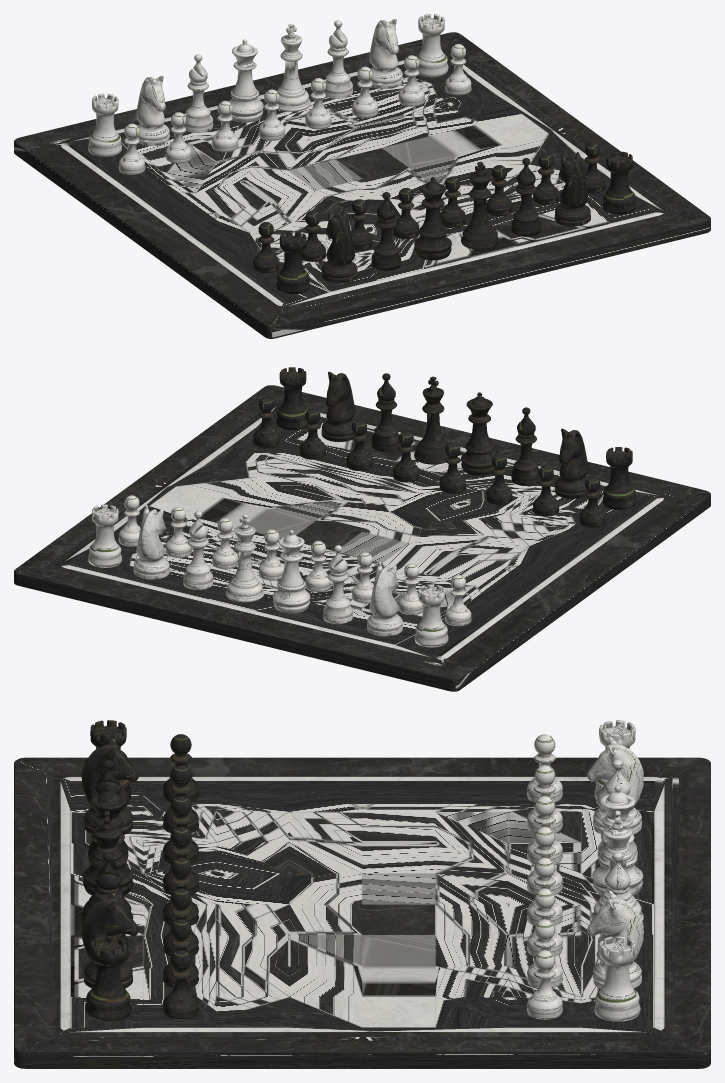
Rendered from chess_set.glb.
The picture shows the model from 3 angles, top to bottom: view 1: azimuth 30°, elevation 25°; view 2: azimuth 150°, elevation 25°; view 3: azimuth 270°, elevation 25°; orthographic projection. The views are drawn at different scales.
Parts seen in each view (by area): view 1: board, piece_queen_black, piece_knight_black_01, piece_knight_black_02, piece_queen_white, piece_knight_white_01, piece_knight_white_02, piece_king_black, piece_king_white, piece_rook_black_01, piece_rook_black_02, piece_rook_white_02 (+21 smaller); view 2: board, piece_queen_white, piece_knight_white_01, piece_knight_white_02, piece_queen_black, piece_knight_black_01, piece_king_white, piece_knight_black_02, piece_king_black, piece_rook_white_02, piece_rook_black_01, piece_rook_white_01 (+21 smaller); view 3: board, piece_rook_white_01, piece_rook_black_02, piece_knight_black_02, piece_knight_white_01, piece_knight_white_02, piece_knight_black_01, piece_queen_white, piece_queen_black, piece_pawn_black_08, piece_pawn_white_01, piece_king_black (+21 smaller).
Part boxes in pixels (<box>): board: <box>14,32,710,338</box>; piece_queen_black: <box>414,177,451,260</box>; piece_knight_black_01: <box>321,209,357,283</box>; piece_knight_black_02: <box>554,152,590,226</box>; piece_queen_white: <box>228,39,263,122</box>; piece_knight_white_01: <box>369,18,402,88</box>; piece_knight_white_02: <box>136,75,169,145</box>; piece_king_black: <box>461,161,499,249</box>; piece_king_white: <box>276,24,310,111</box>; piece_rook_black_01: <box>276,231,309,294</box>; piece_rook_black_02: <box>602,151,636,214</box>; piece_rook_white_02: <box>88,93,122,156</box>; board: <box>14,385,710,691</box>; piece_queen_white: <box>272,530,310,613</box>; piece_knight_white_01: <box>133,505,169,579</box>; piece_knight_white_02: <box>367,562,402,636</box>; piece_queen_black: <box>461,392,495,475</box>; piece_knight_black_01: <box>554,428,588,498</box>; piece_king_white: <box>225,514,264,602</box>; piece_knight_black_02: <box>321,371,354,441</box>; piece_king_black: <box>414,376,447,464</box>; piece_rook_white_02: <box>414,584,448,647</box>; piece_rook_black_01: <box>602,447,636,509</box>; piece_rook_white_01: <box>88,504,121,567</box>; board: <box>14,757,710,1068</box>; piece_rook_white_01: <box>594,936,640,1021</box>; piece_rook_black_02: <box>85,936,131,1021</box>; piece_knight_black_02: <box>81,890,138,988</box>; piece_knight_white_01: <box>587,890,643,988</box>; piece_knight_white_02: <box>587,736,643,834</box>; piece_knight_black_01: <box>81,736,138,834</box>; piece_queen_white: <box>592,785,643,895</box>; piece_queen_black: <box>82,785,133,895</box>; piece_pawn_black_08: <box>163,950,199,1019</box>; piece_pawn_white_01: <box>526,950,562,1019</box>; piece_king_black: <box>81,810,133,921</box>.
Size of the model in its own units: 0.5532 by 0.1122 by 0.5532.
Materials: 3 (3 with a texture image).
